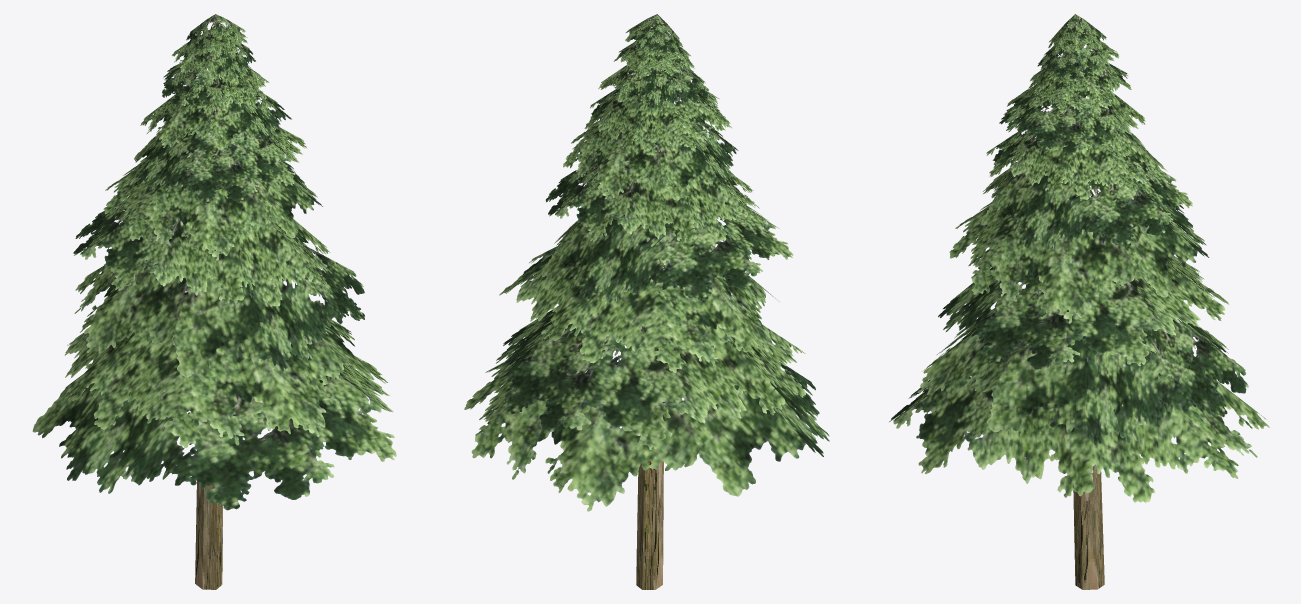
The model's file is Tree_A1.fbx.
3 views of the same model, side by side, from view 1: azimuth 30°, elevation 25°; view 2: azimuth 150°, elevation 25°; view 3: azimuth 270°, elevation 25° (orthographic).
Parts seen in each view (by area): view 1: Tree_A1; view 2: Tree_A1; view 3: Tree_A1.
Boxes of the visible parts, x1,y1,x2,y2 form: Tree_A1: (32,14,396,589); Tree_A1: (464,14,829,589); Tree_A1: (889,14,1269,589).
Bounding box in the file's own units: 4.15 × 6.31 × 4.16.
